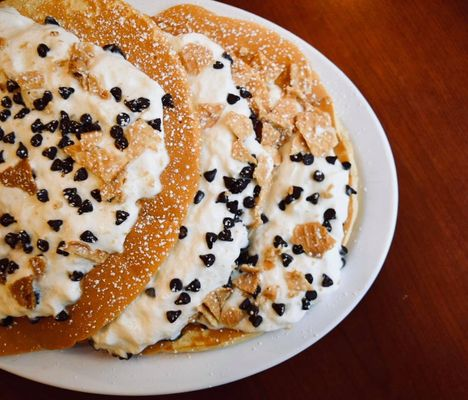curry: (20, 0, 467, 393)
sandwich: (4, 1, 357, 371), (0, 8, 171, 333)
